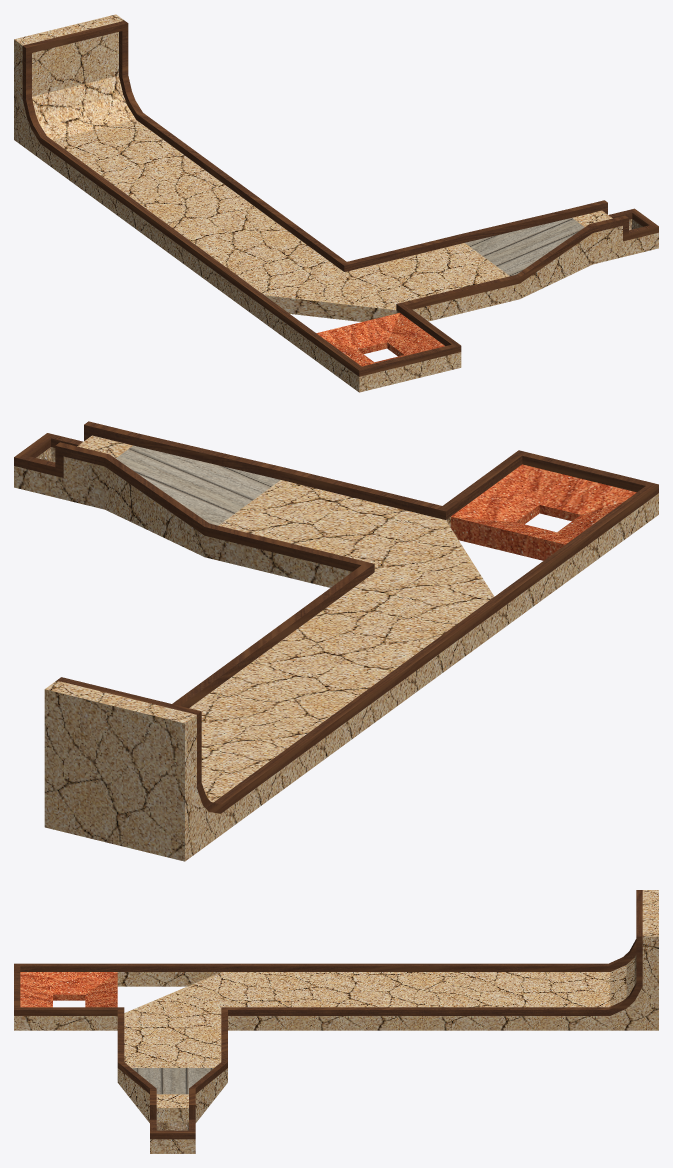
The model's file is Stage2-05.gltf.
The picture shows the model from 3 angles, top to bottom: view 1: azimuth 30°, elevation 25°; view 2: azimuth 150°, elevation 25°; view 3: azimuth 270°, elevation 25°; orthographic projection. The views are drawn at different scales.
Visible parts, largest first — view 1: Cube.001; view 2: Cube.001; view 3: Cube.001.
Boxes of the visible parts, x1,y1,x2,y2 form: Cube.001: (14,14,658,392); Cube.001: (14,421,658,861); Cube.001: (14,890,658,1153).
Bounding box in the file's own units: 12.4 × 3.2 × 19.9.
Materials: 9 (9 with a texture image).
